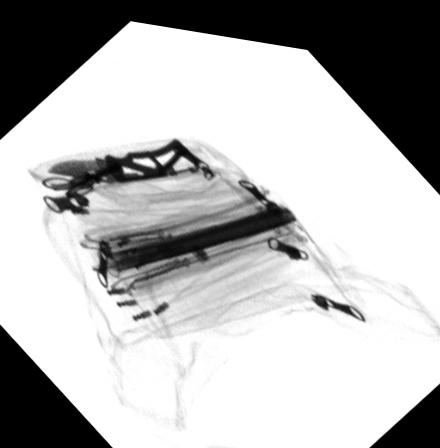Knife: (46, 128, 206, 175)
Scissors: (41, 158, 119, 212)
